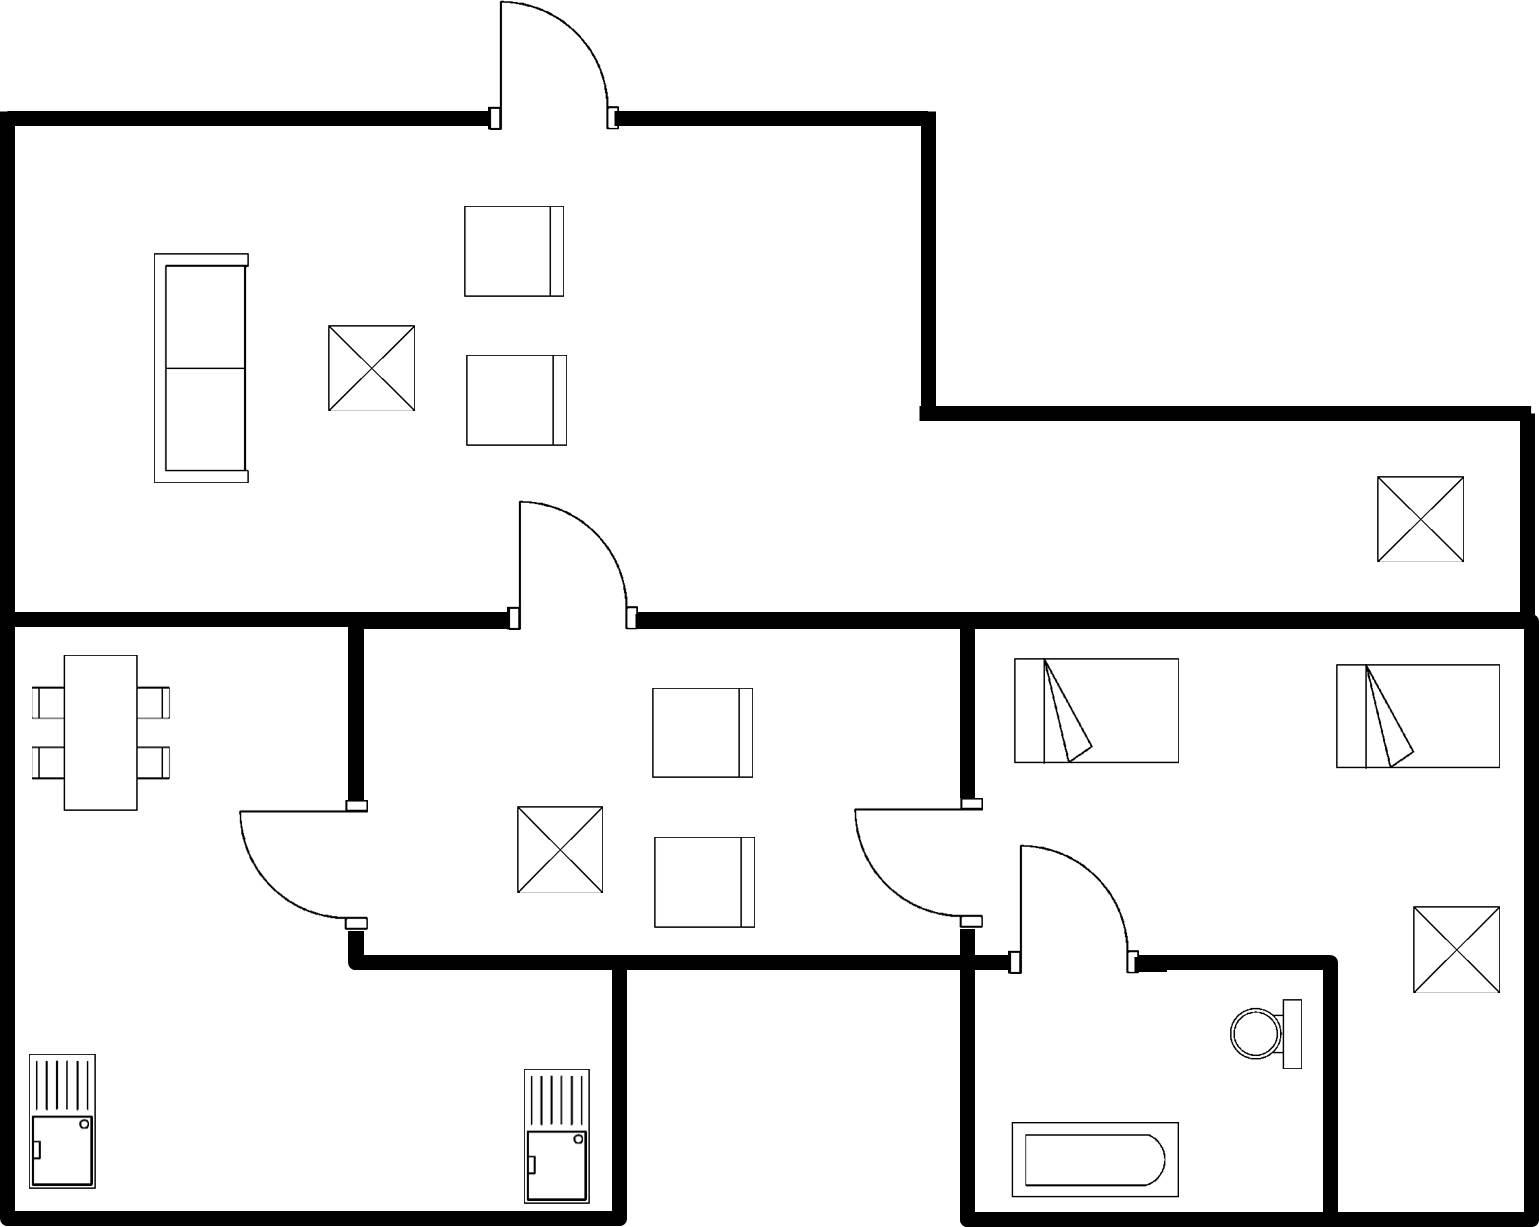bed: (1004, 644, 1190, 774), (1324, 656, 1508, 778), (1365, 467, 1476, 568)
dining_table: (25, 646, 182, 824)
sink: (20, 1042, 108, 1199), (513, 1058, 599, 1211)
sofa: (140, 240, 255, 492)
toilet: (1223, 988, 1314, 1078)
tub: (997, 1116, 1190, 1204)
